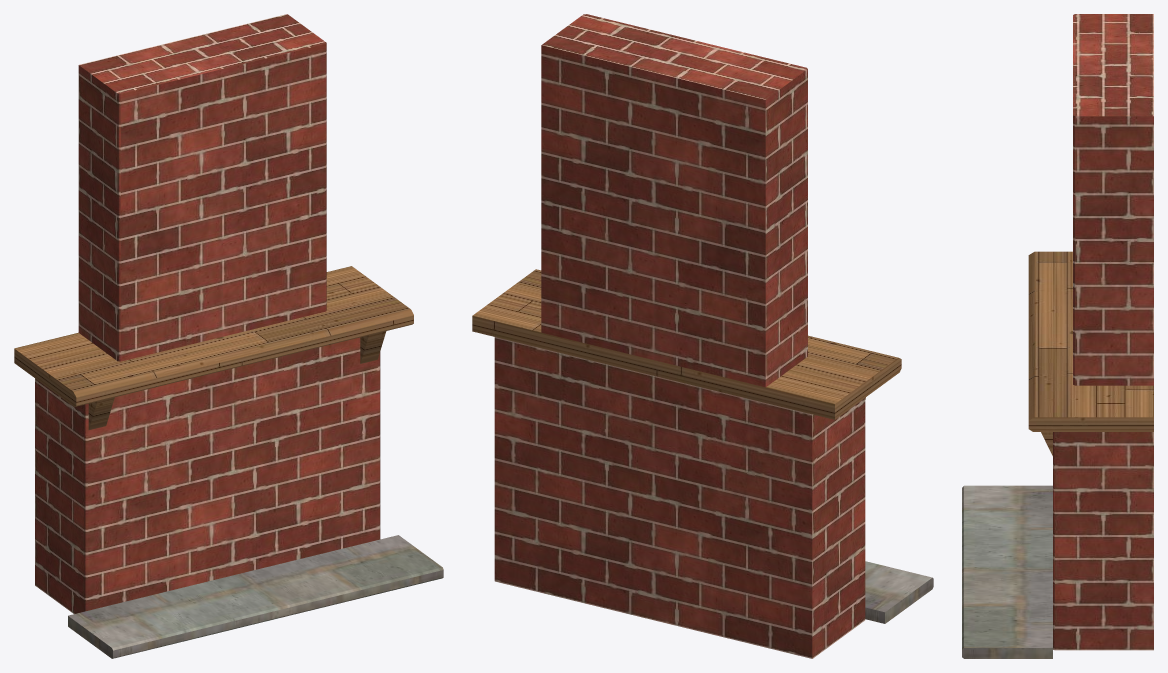
The model's file is fireplace.glb.
The picture shows the model from 3 angles, left to right: view 1: azimuth 30°, elevation 25°; view 2: azimuth 150°, elevation 25°; view 3: azimuth 270°, elevation 25°; orthographic projection. The views are drawn at different scales.
Visible parts, largest first — view 1: fireplace_brick, fireplace_stone, fireplace_wood; view 2: fireplace_brick, fireplace_wood, fireplace_stone; view 3: fireplace_brick, fireplace_stone, fireplace_wood.
Boxes of the visible parts, <box> form: fireplace_brick: <box>35,14,380,613</box>; fireplace_stone: <box>68,535,443,658</box>; fireplace_wood: <box>14,266,413,429</box>; fireplace_brick: <box>494,14,865,658</box>; fireplace_wood: <box>472,269,901,419</box>; fireplace_stone: <box>865,561,933,623</box>; fireplace_brick: <box>1053,14,1153,650</box>; fireplace_stone: <box>962,485,1052,658</box>; fireplace_wood: <box>1028,251,1153,455</box>.
Size of the model in its own units: 1.94 by 2.8 by 0.95.
7 materials, 3 textured.
